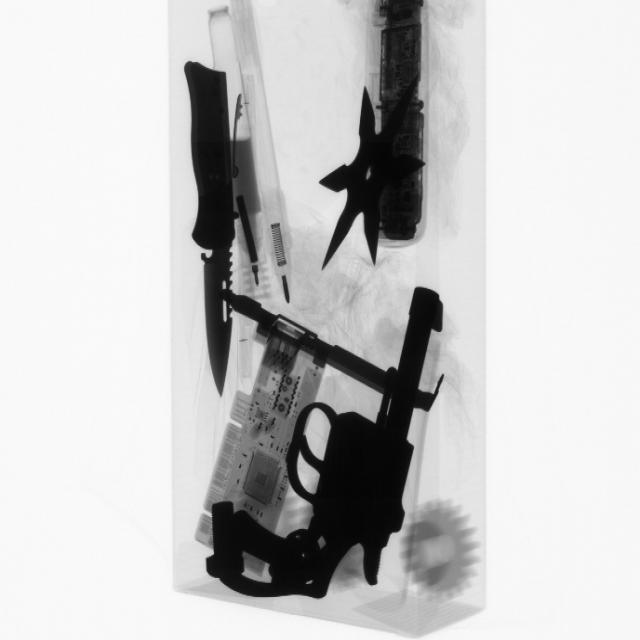GUN: (223, 289, 444, 605)
KNIFE: (174, 55, 256, 396)
SHURIKEN: (320, 78, 424, 270)
